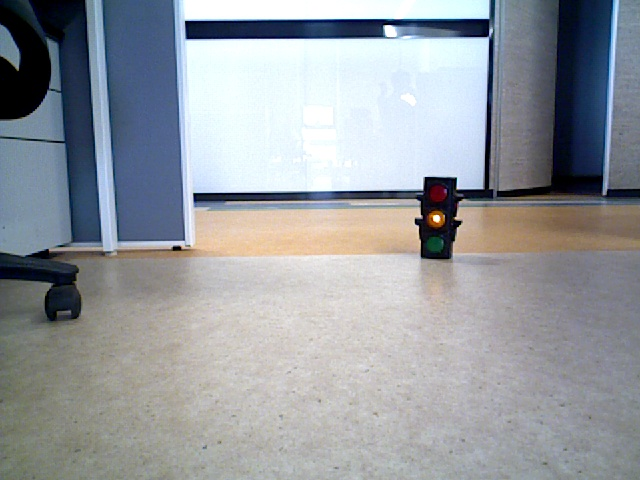yellow: (424, 180, 446, 255)
